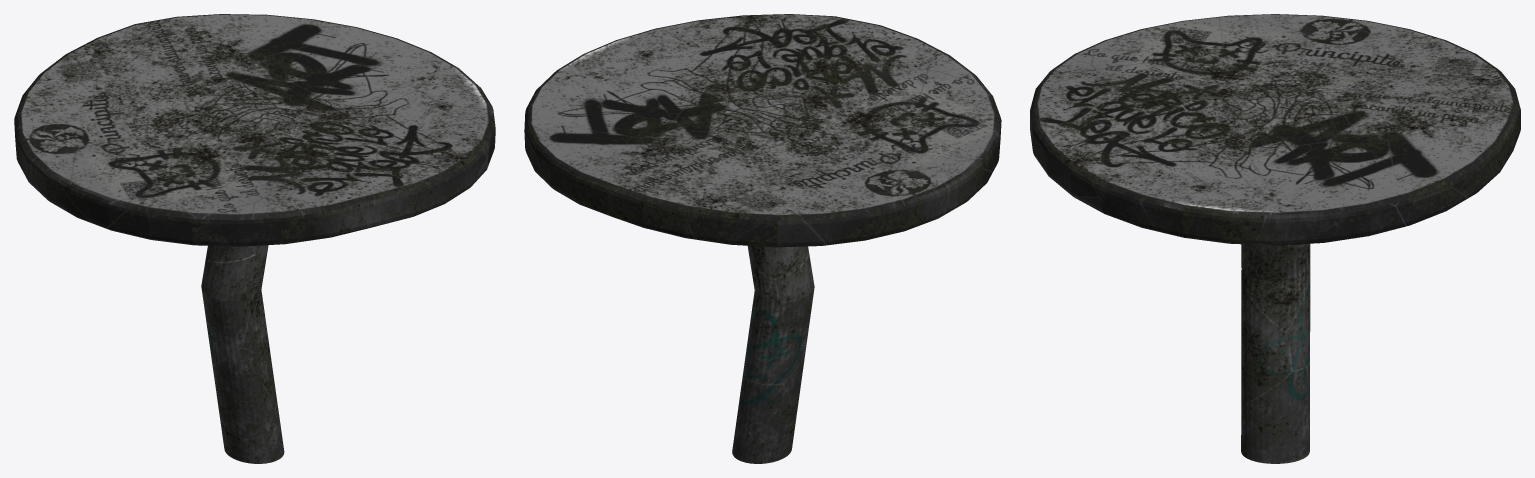
The model's file is Ext_Mesa_V2.glb.
The picture shows the model from 3 angles, left to right: view 1: azimuth 30°, elevation 25°; view 2: azimuth 150°, elevation 25°; view 3: azimuth 270°, elevation 25°; orthographic projection. The views are drawn at different scales.
Visible parts, largest first — view 1: Ext_Mesa_V2; view 2: Ext_Mesa_V2; view 3: Ext_Mesa_V2.
Boxes of the visible parts, bbox=[...] form: Ext_Mesa_V2: bbox=[14, 14, 495, 463]; Ext_Mesa_V2: bbox=[524, 14, 1001, 463]; Ext_Mesa_V2: bbox=[1030, 14, 1520, 463].
Bounding box in the file's own units: 1.11 × 0.8704 × 1.11.
Materials: 1 (1 with a texture image).
